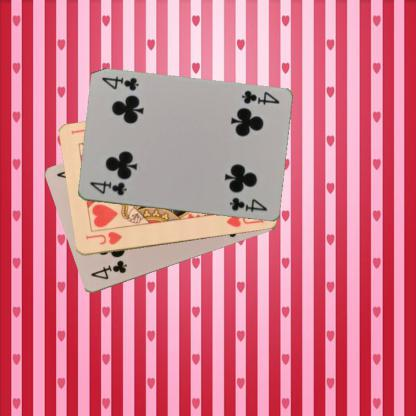4c: (88, 258, 128, 281), (86, 179, 127, 197), (239, 88, 280, 106)
Jh: (83, 230, 123, 246)
